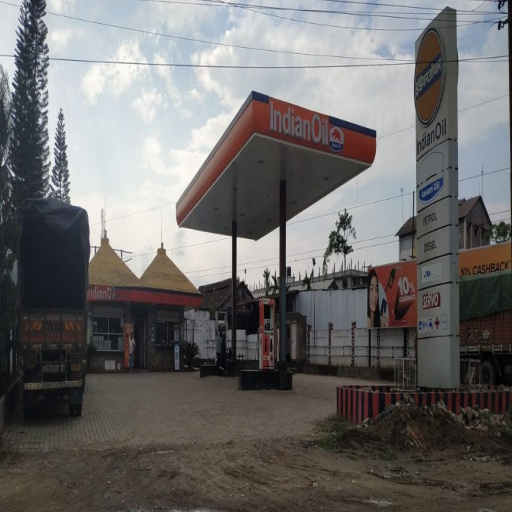roof: (175, 91, 377, 241)
